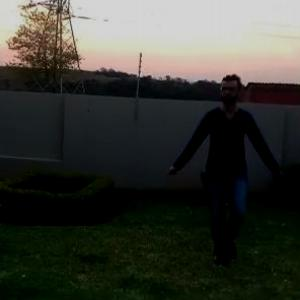land: (173, 72, 292, 271)
